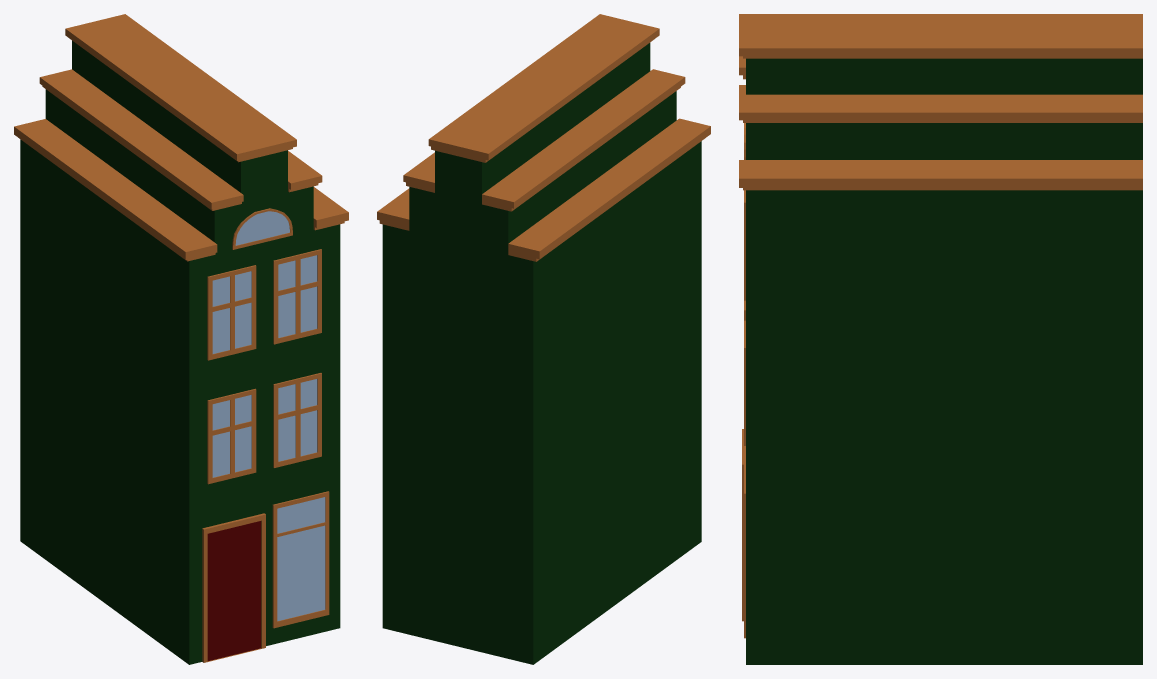
The model's file is amsterdamhuis2TEXTURED.fbx.
3 views of the same model, side by side, from view 1: azimuth 30°, elevation 25°; view 2: azimuth 150°, elevation 25°; view 3: azimuth 270°, elevation 25° (orthographic). The views are drawn at different scales.
Visible parts, largest first — view 1: Plane.013; view 2: Plane.013; view 3: Plane.013.
Boxes of the visible parts, x1,y1,x2,y2 form: Plane.013: [14, 14, 348, 664]; Plane.013: [377, 14, 710, 664]; Plane.013: [739, 14, 1142, 664].
Bounding box in the file's own units: 130 × 383 × 237.
